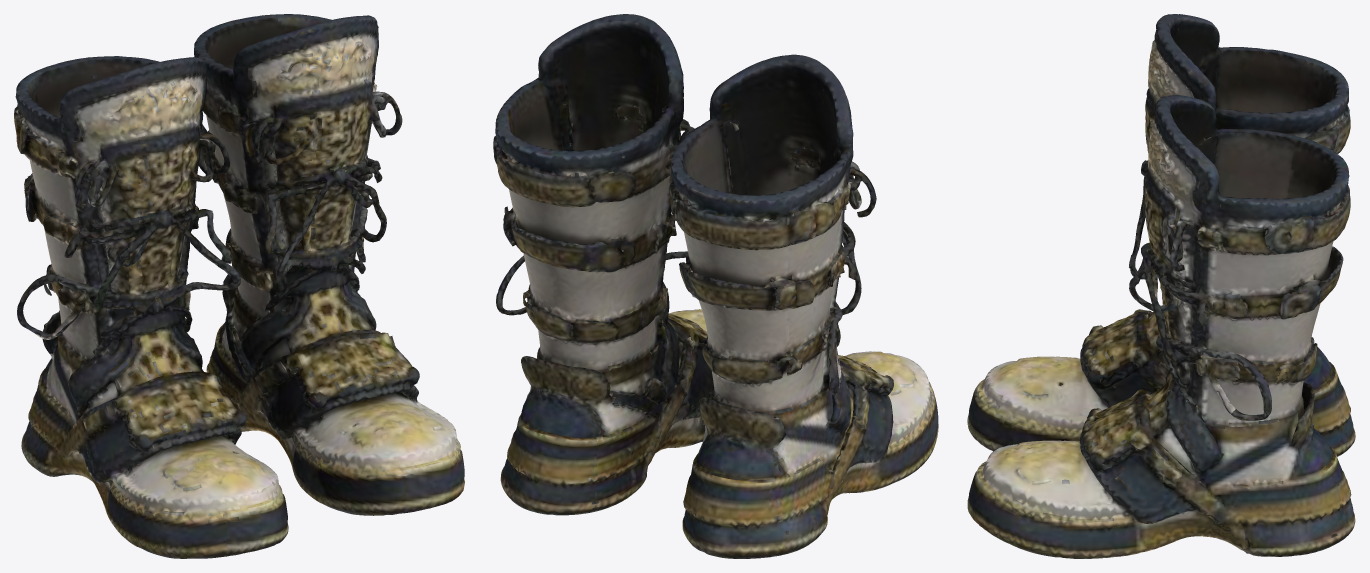
File: SpeedBoots.glb
The picture shows the model from 3 angles, left to right: view 1: azimuth 30°, elevation 25°; view 2: azimuth 150°, elevation 25°; view 3: azimuth 270°, elevation 25°; orthographic projection. The views are drawn at different scales.
Bounding box in the file's own units: 1.6 × 1.92 × 1.6.
1 material, 1 textured.
